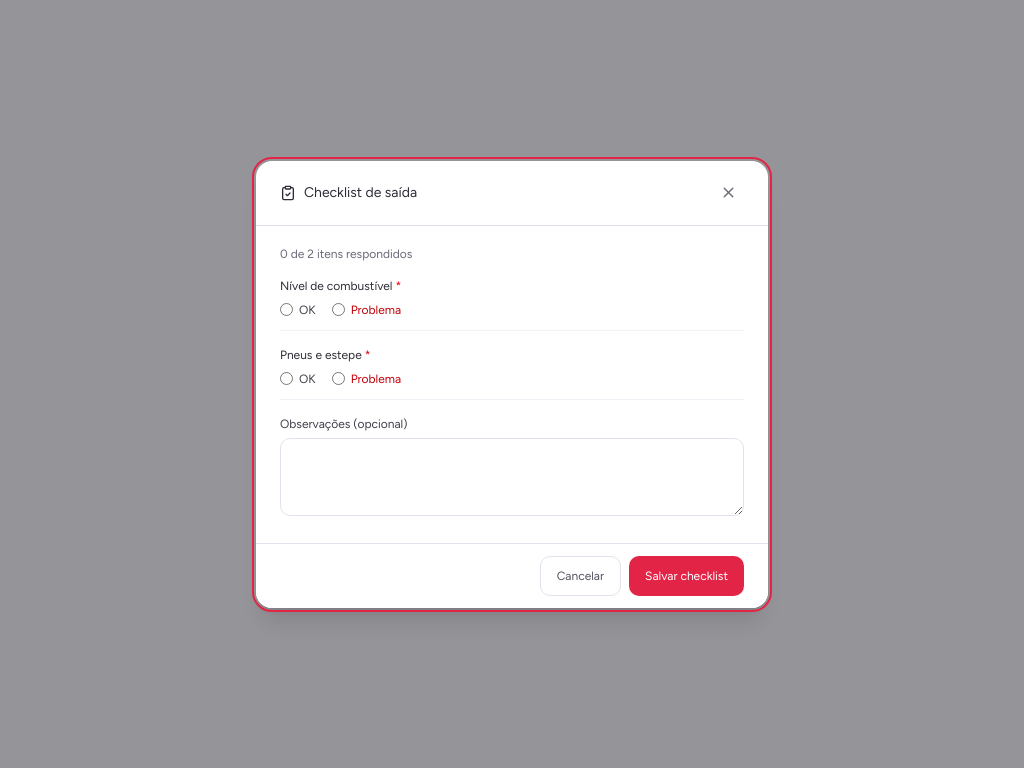
Scenario: ChecklistModal › não envia enquanto houver item sem resposta
Step 1. Click the button "Salvar checklist" → {"x": 686, "y": 576}, box [629,556,744,596]
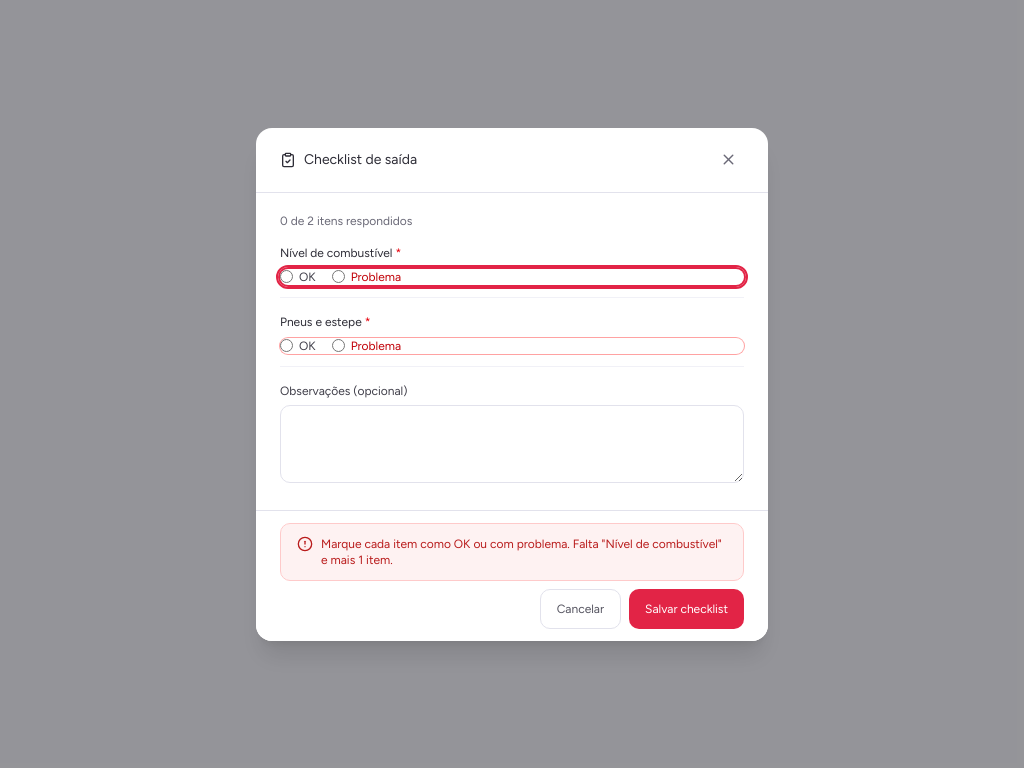
Expected: the element named "Salvar checklist" is shown, [256,510,768,640]
Result: the 2nd message shows "Marque cada item como OK ou com problema." at [321,536,722,566]
